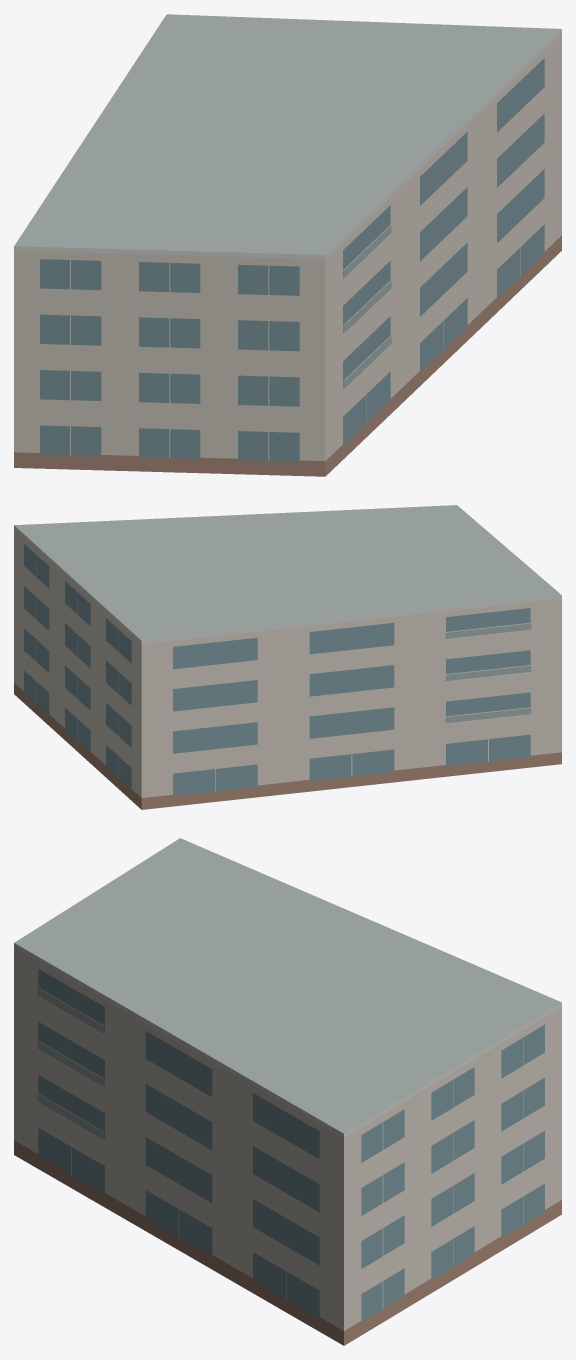
Rendered from residential-68f97b50-99fe-409e-a221-ff67626c8358.glb.
3 renders of one model, top to bottom at view 1: azimuth 30°, elevation 25°; view 2: azimuth 150°, elevation 25°; view 3: azimuth 270°, elevation 25°, orthographic. The views are drawn at different scales.
Visible parts, largest first — view 1: residential-68f97b50-99fe-409e-a221-ff67626c8358.tmp; view 2: residential-68f97b50-99fe-409e-a221-ff67626c8358.tmp; view 3: residential-68f97b50-99fe-409e-a221-ff67626c8358.tmp.
Part boxes in pixels (x1,y1,x2,y2): residential-68f97b50-99fe-409e-a221-ff67626c8358.tmp: (14,14,561,476); residential-68f97b50-99fe-409e-a221-ff67626c8358.tmp: (14,505,561,809); residential-68f97b50-99fe-409e-a221-ff67626c8358.tmp: (14,838,561,1345).
Size of the model in its own units: 36.48 by 12.2 by 28.56.
